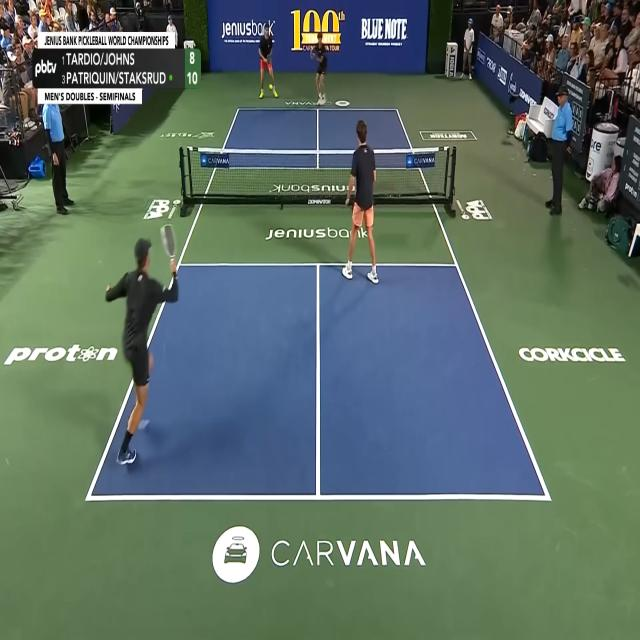ball: (269, 83, 272, 91)
